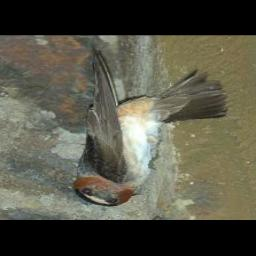Swallow: (71, 46, 228, 208)
